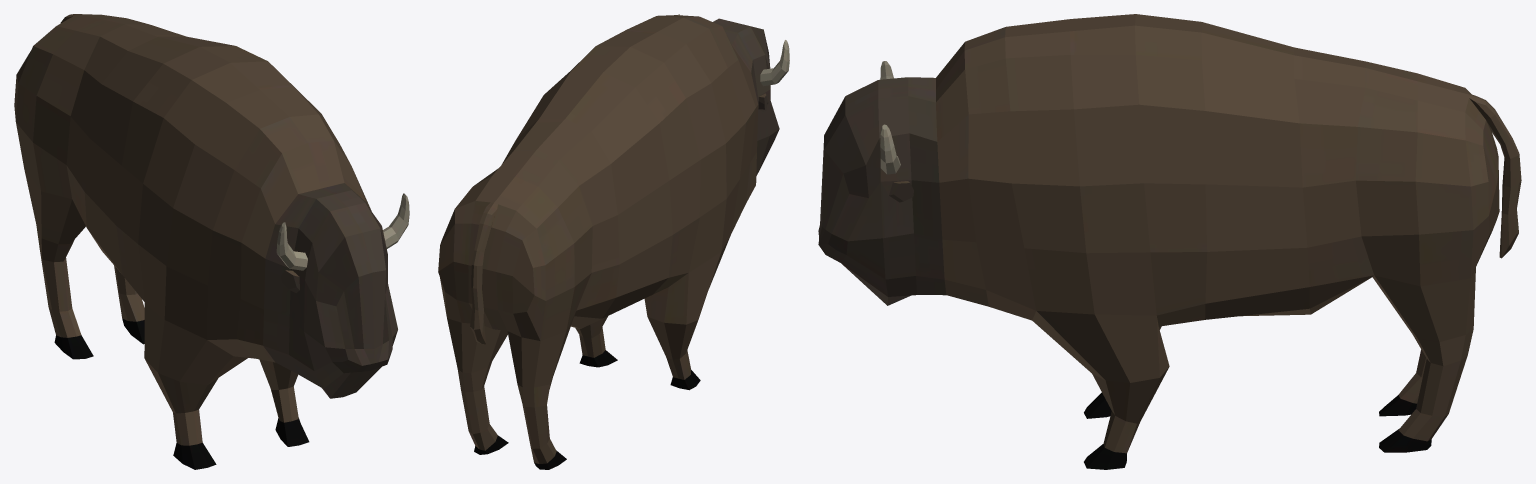
File: bizon.glb
The picture shows the model from 3 angles, left to right: view 1: azimuth 30°, elevation 25°; view 2: azimuth 150°, elevation 25°; view 3: azimuth 270°, elevation 25°; orthographic projection. The views are drawn at different scales.
Visible parts, largest first — view 1: 04bizonFinal; view 2: 04bizonFinal; view 3: 04bizonFinal.
Part boxes in pixels (x1=…): 04bizonFinal: x1=14, y1=14, x2=409, y2=469; 04bizonFinal: x1=438, y1=14, x2=789, y2=469; 04bizonFinal: x1=818, y1=14, x2=1521, y2=469.
Size of the model in its own units: 1.16 by 2.42 by 3.74.
1 material, 1 textured.
